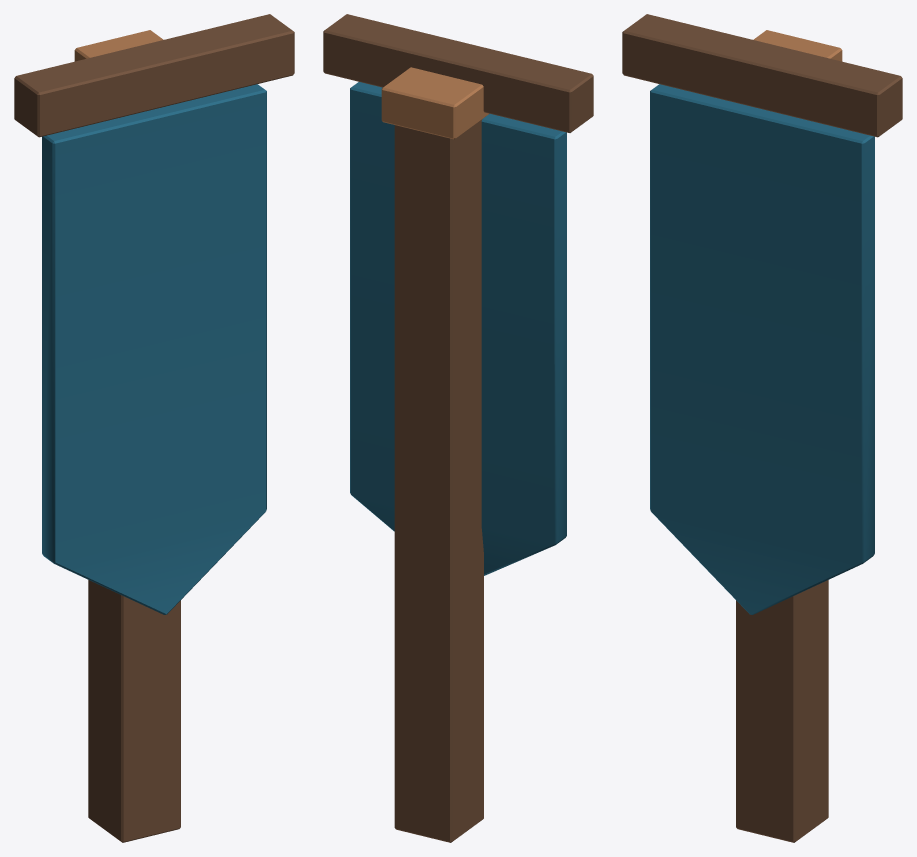
The model's file is banner_vertical_01.glb.
3 views of the same model, side by side, from view 1: azimuth 30°, elevation 25°; view 2: azimuth 150°, elevation 25°; view 3: azimuth 330°, elevation 25° (orthographic). The views are drawn at different scales.
Parts seen in each view (by area): view 1: banner_vertical_01; view 2: banner_vertical_01; view 3: banner_vertical_01.
Boxes of the visible parts, x1=… form: banner_vertical_01: x1=14, y1=14, x2=294, y2=842; banner_vertical_01: x1=323, y1=14, x2=593, y2=842; banner_vertical_01: x1=622, y1=14, x2=902, y2=842.
Size of the model in its own units: 0.6 by 1.75 by 0.22.
